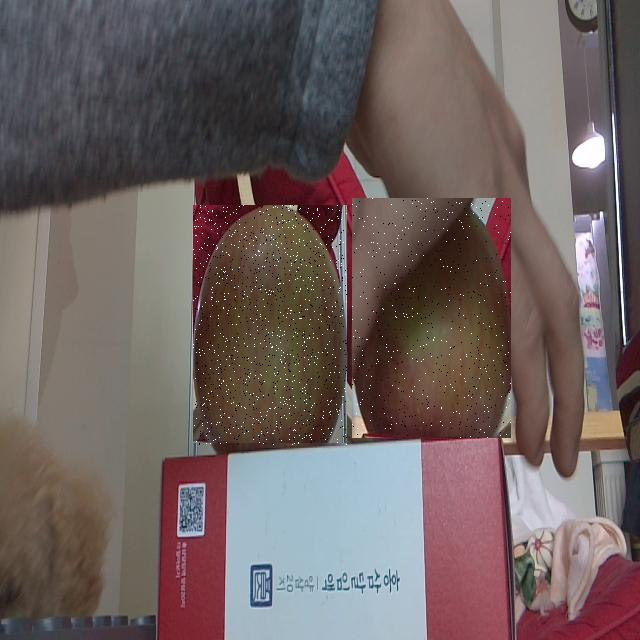apple: (352, 198, 511, 438), (193, 205, 347, 446)
